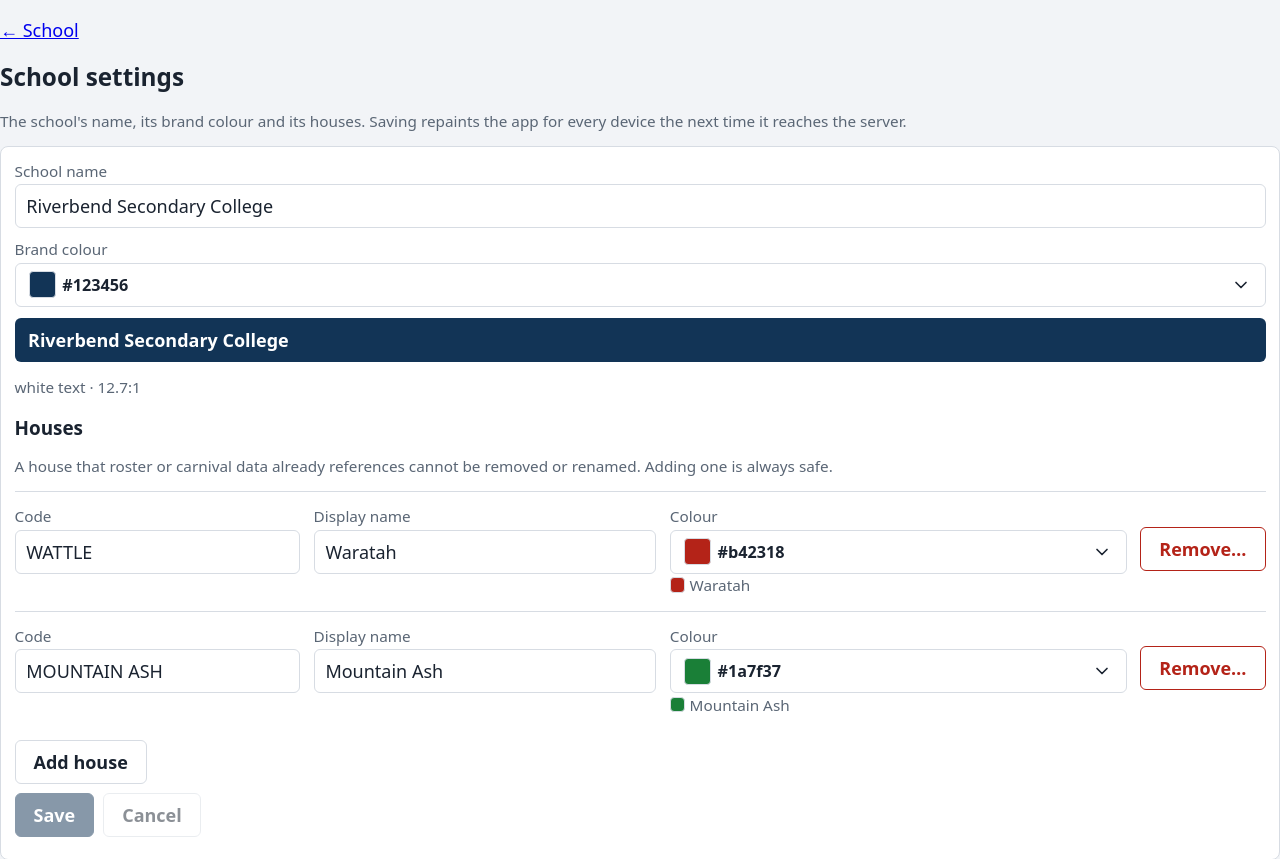
Scenario: SchoolSettingsScreen › offers a reload when another administrator saved first
Step 1. Replace the text in the field labelled "School name" with "Riverbend" → point(640, 206), box [14, 184, 1266, 228]
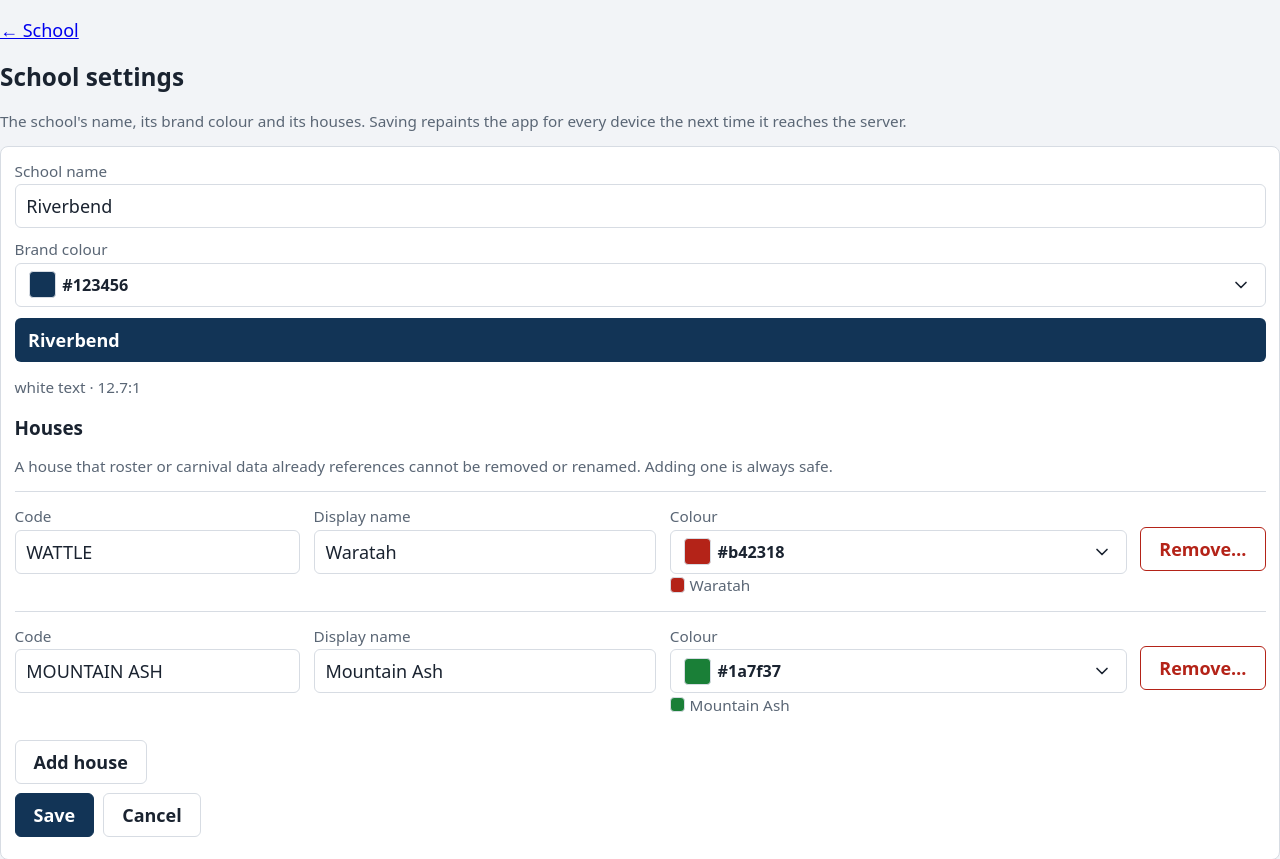
Step 2. Click the button "Save" → point(54, 815), box [14, 793, 94, 837]
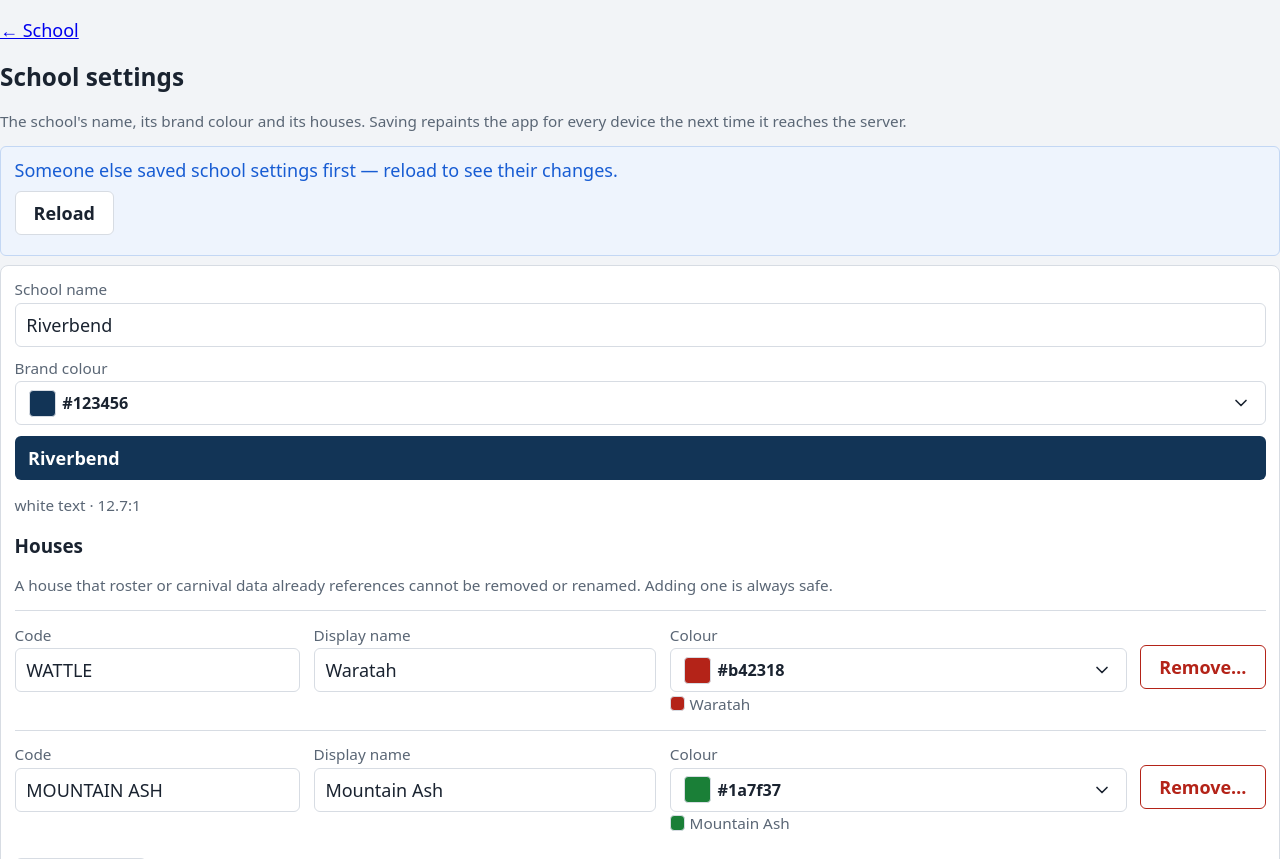
Expected: the text "Someone else saved school settings first — reload to see their changes. Reload" is shown, [0, 146, 1279, 256]
Step 3. Click the button "Reload" → point(64, 213), box [14, 191, 114, 235]
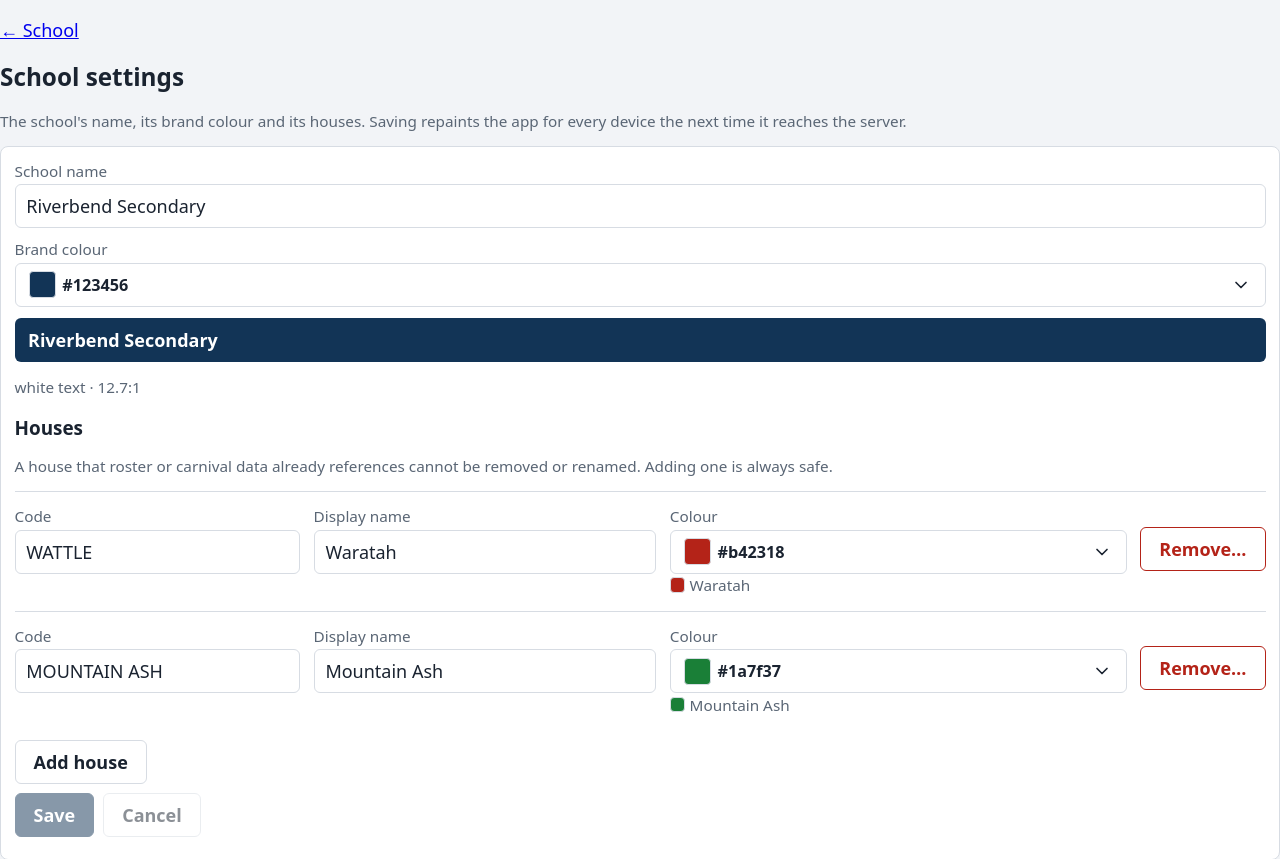
Expected: the field labelled "School name" holds "Riverbend Secondary", [14, 184, 1266, 228]
